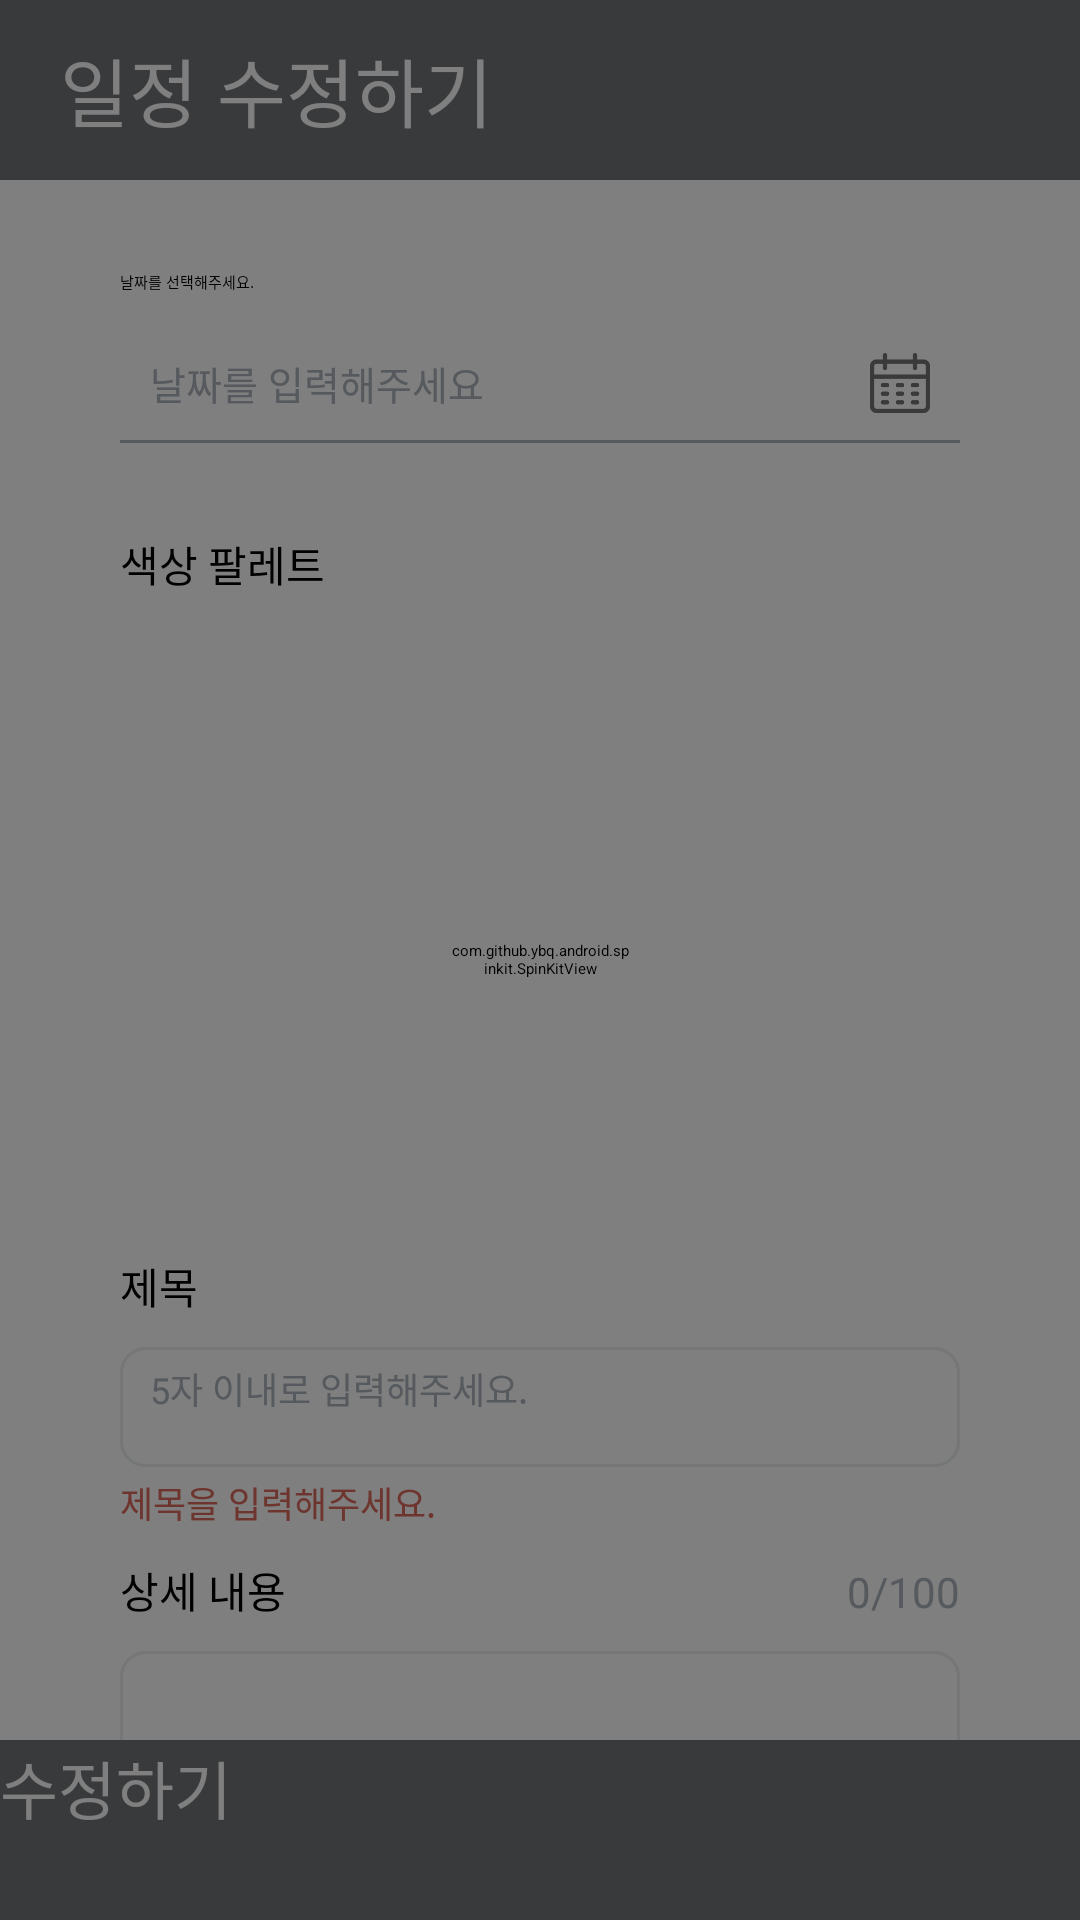

Icons on this 1080*1920 Android screen, each with the point to tap as (x,y):
calendar: (900,383)
